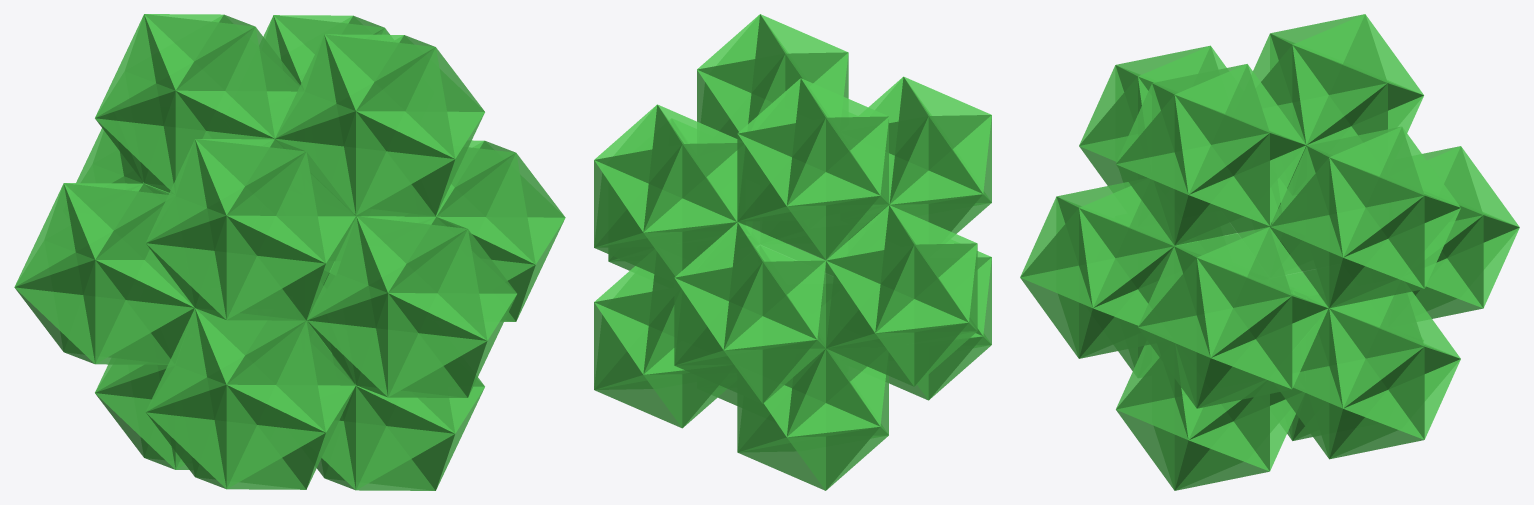
Rendered from fractalgreatdodecahedron1.glb.
3 renders of one model, left to right at view 1: azimuth 30°, elevation 25°; view 2: azimuth 150°, elevation 25°; view 3: azimuth 270°, elevation 25°, orthographic. The views are drawn at different scales.
Size of the model in its own units: 12.11 by 10.59 by 12.11.
